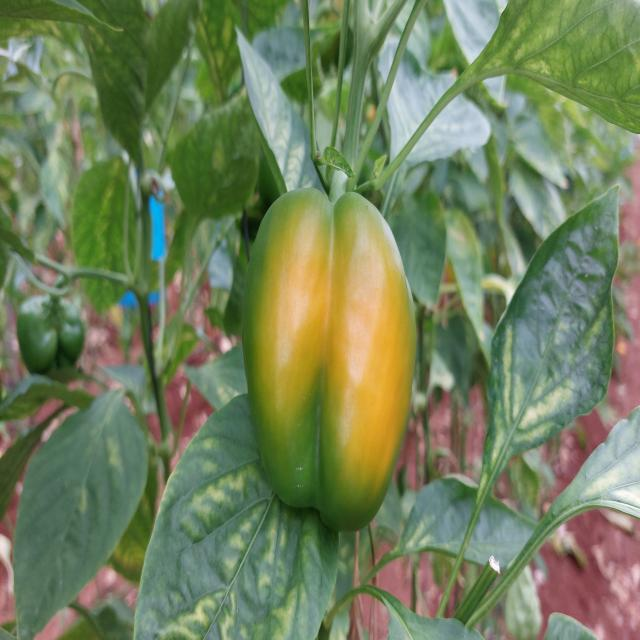GreenishYellow--Can-be-Harvested: (246, 150, 434, 546)
